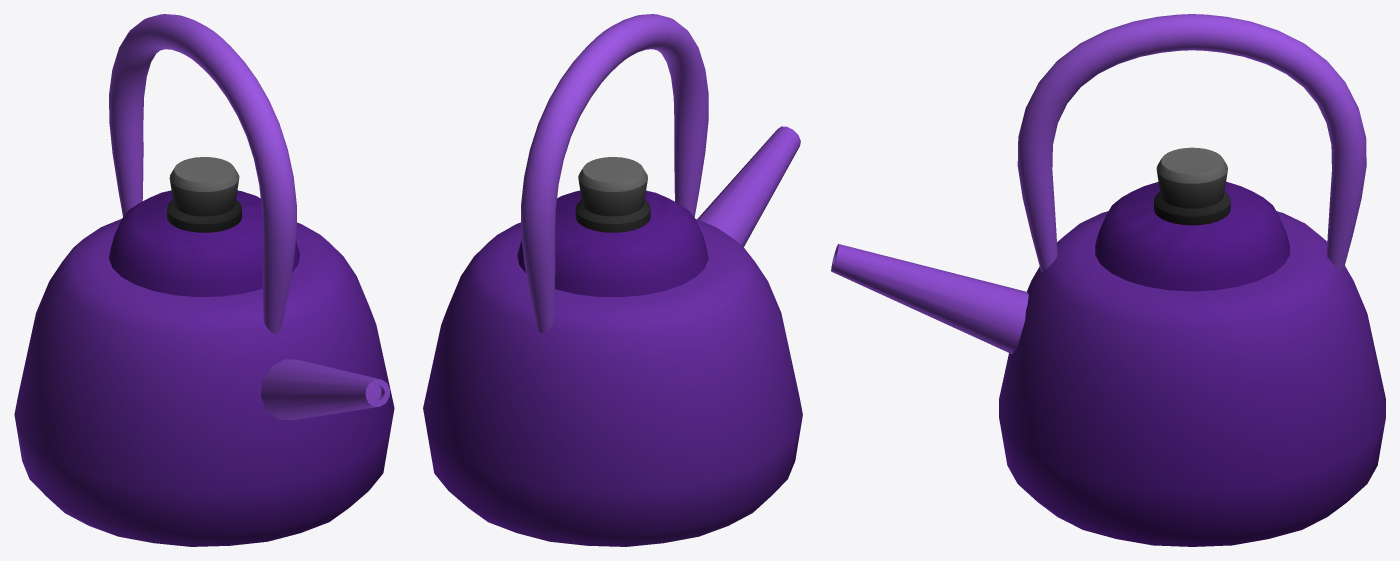
The model's file is Tea Pot_2.fbx.
3 views of the same model, side by side, from view 1: azimuth 30°, elevation 25°; view 2: azimuth 150°, elevation 25°; view 3: azimuth 270°, elevation 25° (orthographic). The views are drawn at different scales.
Visible parts, largest first — view 1: Tea Pot_2, Tea Pot_2 Top; view 2: Tea Pot_2, Tea Pot_2 Top; view 3: Tea Pot_2, Tea Pot_2 Top.
Part boxes in pixels (bbox=[...]): Tea Pot_2: bbox=[14, 14, 394, 546]; Tea Pot_2 Top: bbox=[109, 157, 299, 296]; Tea Pot_2: bbox=[423, 14, 802, 546]; Tea Pot_2 Top: bbox=[517, 157, 708, 297]; Tea Pot_2: bbox=[831, 14, 1385, 546]; Tea Pot_2 Top: bbox=[1095, 147, 1289, 291].
Bounding box in the file's own units: 0.2107 × 0.2751 × 0.3.
1 material, 1 textured.
